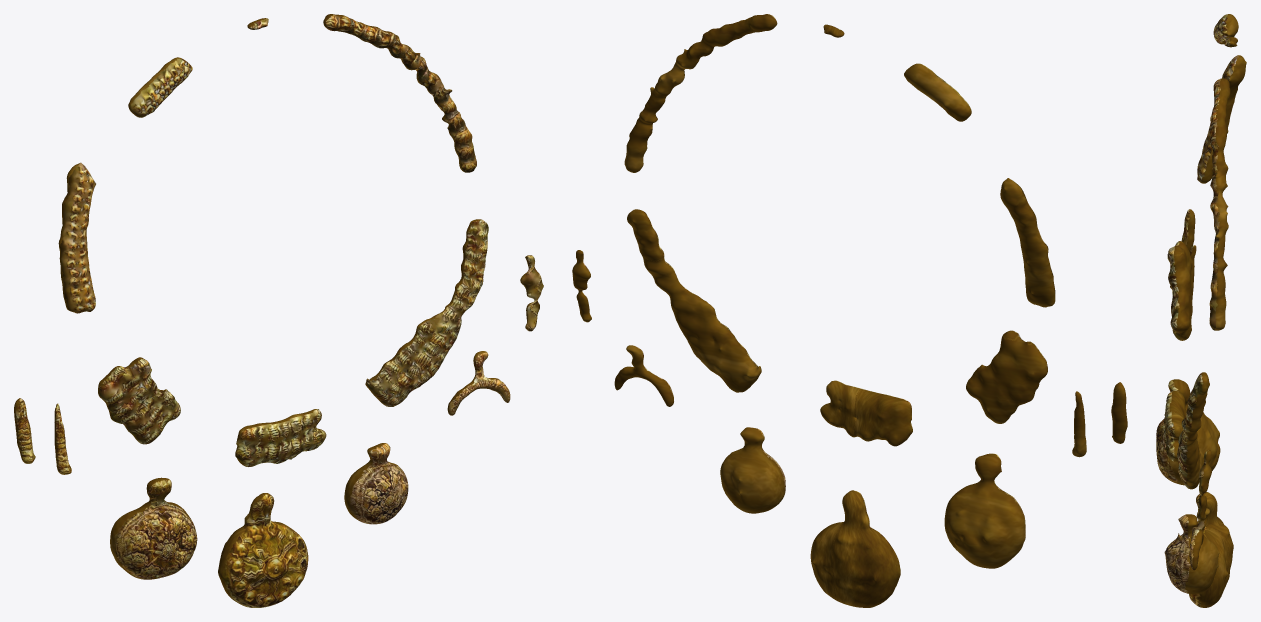
File: ane-15.glb
3 views of the same model, side by side, from view 1: azimuth 30°, elevation 25°; view 2: azimuth 150°, elevation 25°; view 3: azimuth 270°, elevation 25° (orthographic). The views are drawn at different scales.
Visible parts, largest first — view 1: ane-15; view 2: ane-15; view 3: ane-15.
Boxes of the visible parts, x1,y1,x2,y2 form: ane-15: [14, 14, 543, 607]; ane-15: [572, 14, 1127, 607]; ane-15: [1156, 14, 1246, 607].
Bounding box in the file's own units: 0.968 × 0.9932 × 0.1434.
2 materials, 2 textured.
